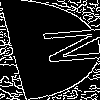N: (25, 25, 100, 67)
